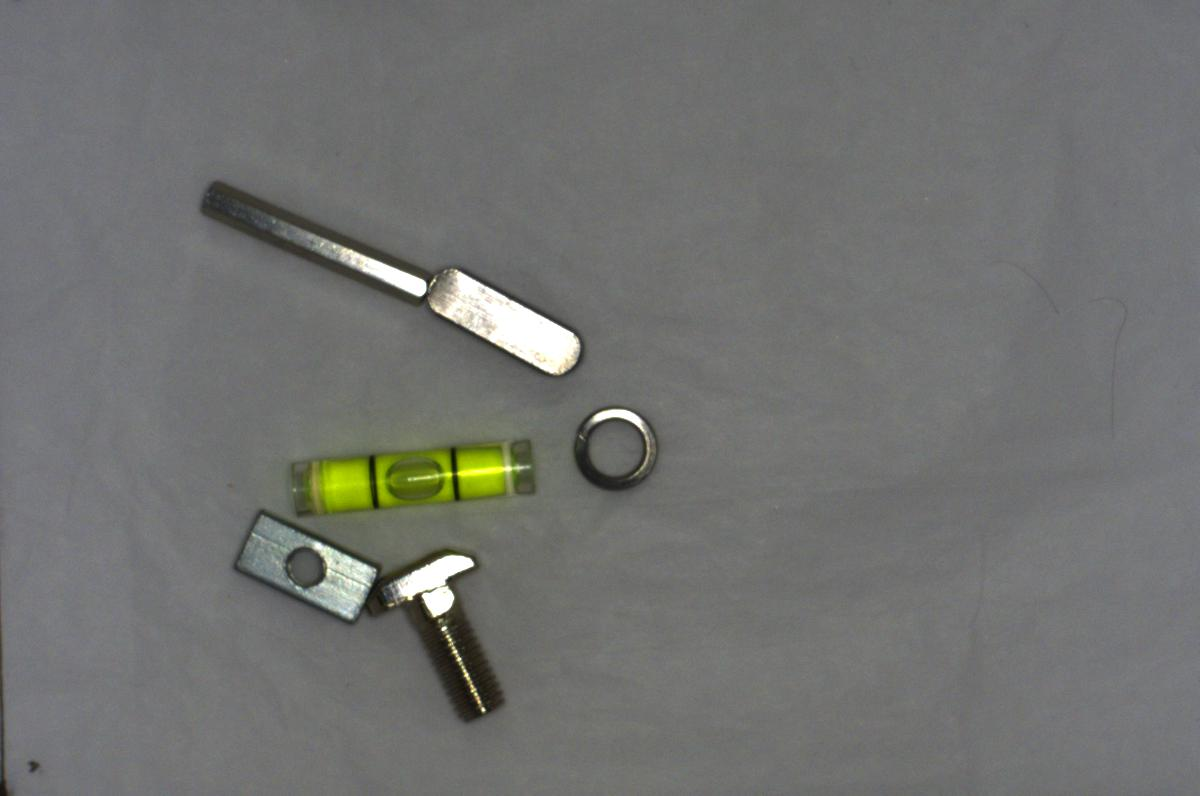Double hexagonal column: (187, 173, 430, 308)
Horizontal bubble: (281, 430, 542, 527)
Keybar: (427, 262, 588, 378)
Rectangular nut: (228, 509, 380, 628)
Spring washer: (562, 399, 668, 498)
T-shaped screw: (362, 541, 507, 727)
